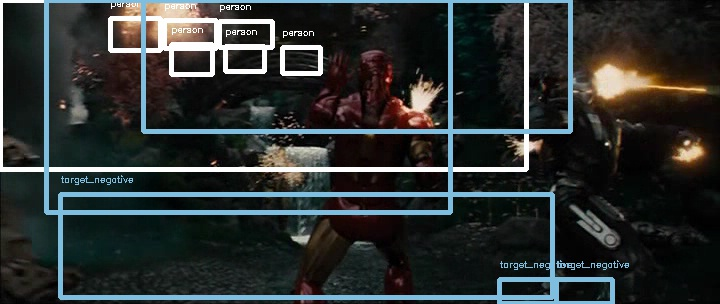person: (352, 44, 395, 93), (351, 44, 394, 93), (353, 44, 396, 93), (352, 43, 395, 92), (352, 45, 395, 94)
target_negative: (394, 11, 467, 183), (528, 202, 635, 301), (31, 275, 462, 292), (41, 152, 174, 194), (203, 55, 284, 119), (617, 210, 654, 211)
